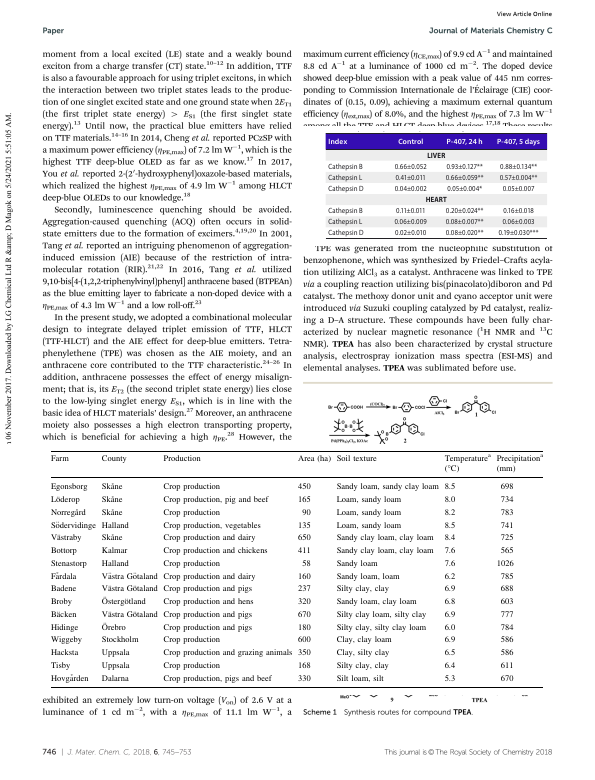borderless: (50, 449, 543, 687), (326, 131, 547, 238)
cell: (162, 648, 293, 658), (162, 674, 272, 684), (443, 452, 492, 474), (495, 452, 544, 474), (162, 495, 269, 505), (162, 546, 268, 556), (335, 483, 440, 493), (162, 521, 261, 531), (335, 534, 434, 544), (335, 546, 434, 556), (162, 534, 256, 544), (162, 572, 256, 582), (162, 597, 254, 607), (335, 610, 427, 620), (335, 623, 427, 633), (162, 585, 253, 595), (162, 610, 253, 620), (162, 623, 253, 633), (335, 597, 417, 607), (335, 495, 402, 505), (335, 508, 402, 518), (335, 521, 402, 531), (335, 572, 400, 582), (162, 483, 221, 493), (162, 508, 221, 518), (162, 559, 221, 569), (162, 636, 221, 646), (162, 661, 221, 671), (100, 572, 158, 582), (100, 585, 158, 595), (100, 610, 158, 620), (335, 636, 392, 646), (335, 648, 390, 658), (335, 585, 389, 595), (335, 661, 389, 671), (100, 596, 146, 607), (335, 674, 384, 684), (50, 521, 97, 531), (335, 559, 378, 569), (335, 454, 377, 464), (496, 137, 541, 146), (162, 454, 201, 464), (100, 636, 139, 646), (50, 674, 89, 684), (50, 483, 88, 493), (497, 229, 539, 238), (50, 559, 87, 569), (50, 508, 86, 518), (445, 162, 484, 171), (499, 162, 538, 171), (445, 173, 484, 182), (499, 173, 538, 182), (445, 207, 484, 216), (445, 218, 484, 227), (445, 229, 484, 238), (297, 454, 332, 464), (446, 137, 484, 146), (327, 162, 364, 171), (327, 184, 364, 193), (446, 184, 483, 193), (327, 207, 364, 216), (327, 229, 364, 238), (50, 636, 83, 646), (327, 173, 363, 182), (327, 218, 363, 227), (50, 534, 82, 544), (393, 218, 428, 227), (501, 218, 536, 227), (100, 621, 126, 633), (394, 162, 428, 171), (394, 184, 428, 193), (50, 495, 80, 505), (100, 648, 130, 658), (100, 661, 130, 671), (394, 173, 427, 182), (502, 184, 535, 193), (502, 207, 535, 216), (394, 229, 427, 238), (100, 521, 129, 531), (100, 559, 129, 569), (50, 623, 79, 633), (50, 648, 79, 658), (100, 674, 129, 684), (100, 546, 128, 556), (395, 207, 426, 216), (100, 454, 127, 464), (50, 546, 77, 556), (50, 572, 77, 582), (50, 585, 77, 595), (50, 610, 77, 620), (100, 482, 123, 493), (100, 533, 123, 544), (397, 137, 424, 146), (100, 495, 123, 505), (100, 508, 123, 518), (50, 597, 73, 607), (50, 661, 71, 671), (49, 454, 69, 464), (495, 559, 514, 569), (327, 137, 348, 146), (425, 196, 448, 203), (499, 483, 514, 493), (499, 495, 514, 505), (499, 508, 514, 518), (499, 521, 514, 531), (499, 534, 514, 544), (499, 546, 514, 556), (499, 572, 514, 582), (499, 585, 514, 595), (499, 597, 514, 607), (499, 610, 514, 620), (499, 623, 514, 633), (499, 636, 514, 646), (499, 648, 514, 658), (499, 661, 514, 671), (499, 674, 514, 684), (297, 483, 311, 493), (297, 495, 311, 505), (297, 521, 311, 531), (297, 534, 311, 544), (297, 546, 311, 556), (297, 572, 311, 582), (297, 585, 311, 595), (297, 597, 311, 607), (297, 610, 311, 620), (297, 623, 311, 633), (297, 636, 311, 646), (297, 648, 311, 658), (297, 661, 311, 671), (297, 674, 311, 684), (426, 151, 446, 158), (443, 483, 456, 493), (443, 495, 456, 505), (443, 508, 456, 518), (443, 521, 456, 531), (443, 534, 456, 544), (443, 546, 456, 556), (443, 559, 456, 569), (443, 572, 456, 582), (443, 585, 456, 595), (443, 597, 456, 607), (443, 610, 456, 620), (443, 623, 456, 633), (443, 636, 456, 646), (443, 648, 456, 658), (443, 661, 456, 671), (443, 674, 456, 684), (301, 508, 311, 518), (301, 559, 311, 569)
